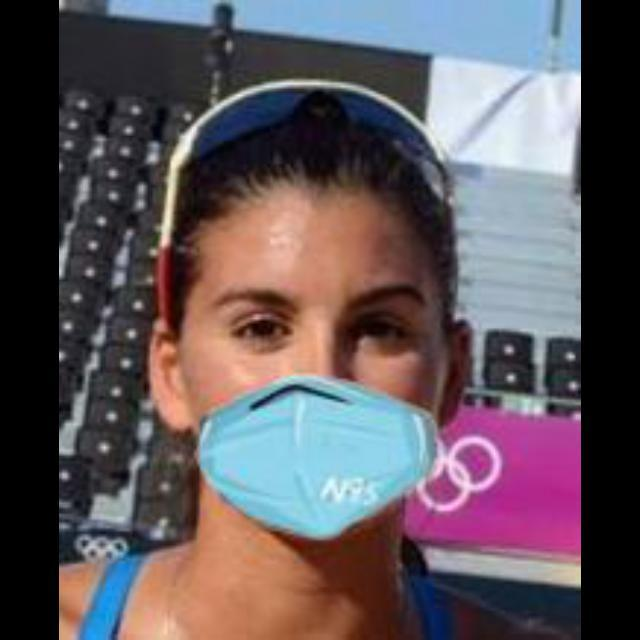suspicion: (175, 73, 442, 545)
